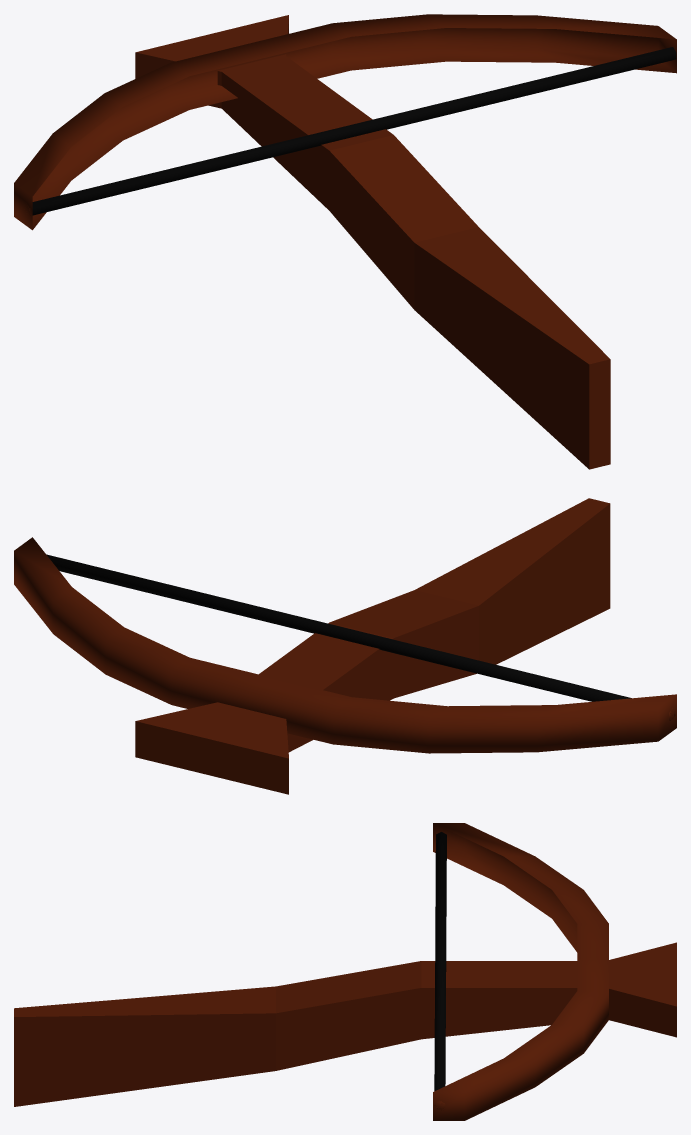
The model's file is crossbow.obj.
3 views of the same model, one above another, from view 1: azimuth 30°, elevation 25°; view 2: azimuth 150°, elevation 25°; view 3: azimuth 270°, elevation 25° (orthographic). The views are drawn at different scales.
Visible parts, largest first — view 1: Cube_Cube.001; view 2: Cube_Cube.001; view 3: Cube_Cube.001.
Part boxes in pixels (x1,y1,x2,y2): Cube_Cube.001: (14,14,676,469); Cube_Cube.001: (14,498,676,794); Cube_Cube.001: (14,823,676,1120).
Bounding box in the file's own units: 1 × 0.2515 × 1.04.
